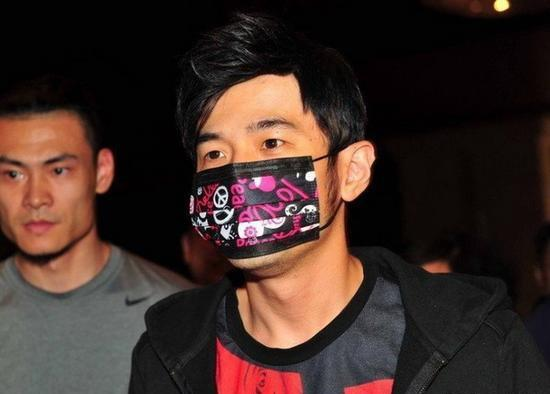NONE: (1, 140, 95, 249)
WRONG: (188, 115, 341, 268)
